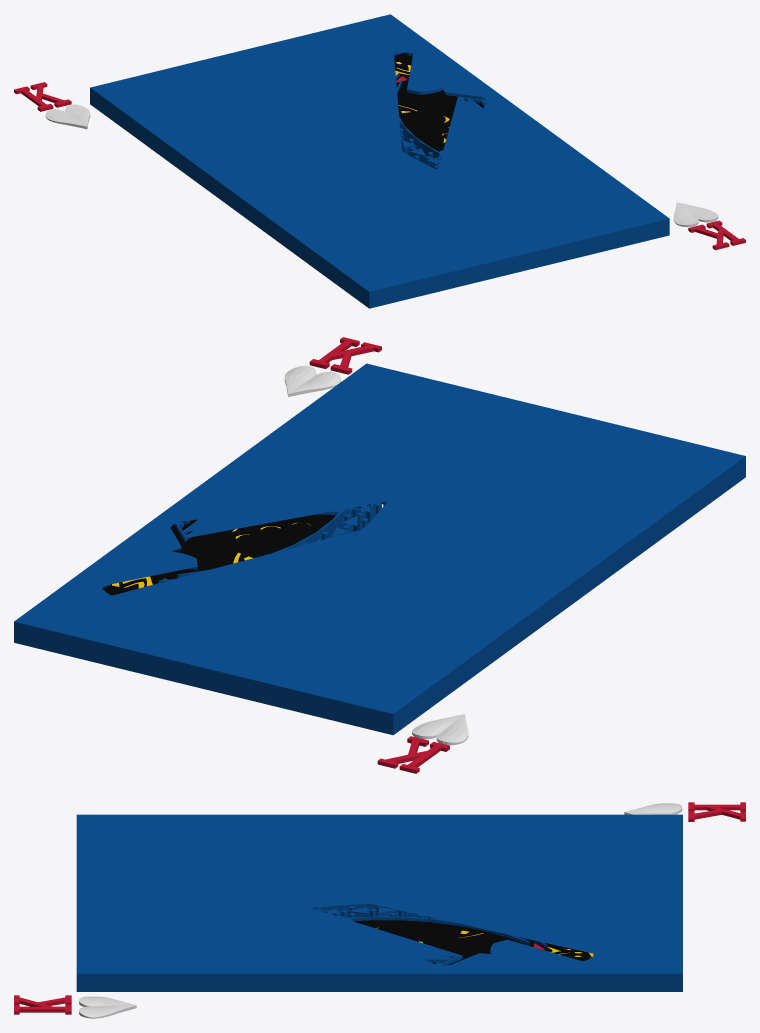
File: King.fbx
3 renders of one model, top to bottom at view 1: azimuth 30°, elevation 25°; view 2: azimuth 150°, elevation 25°; view 3: azimuth 270°, elevation 25°, orthographic. The views are drawn at different scales.
Visible parts, largest first — view 1: path3874-3-1-4, path3870-4-7-1, Cube.002, Cube.003, path39-51-8-0-0.001, path39-51-8-0-0; view 2: path3874-3-1-4, path3870-4-7-1, Cube.002, Cube.003, path39-51-8-0-0.001, path39-51-8-0-0; view 3: path3874-3-1-4, path3870-4-7-1, Cube.002, path39-51-8-0-0, path39-51-8-0-0.001, Cube.003.
Boxes of the visible parts, x1=… form: path3874-3-1-4: x1=90, y1=14, x2=669, y2=308; path3870-4-7-1: x1=394, y1=53, x2=484, y2=151; Cube.002: x1=673, y1=202, x2=718, y2=227; Cube.003: x1=45, y1=104, x2=90, y2=128; path39-51-8-0-0.001: x1=688, y1=220, x2=745, y2=250; path39-51-8-0-0: x1=14, y1=82, x2=71, y2=111; path3874-3-1-4: x1=14, y1=363, x2=745, y2=735; path3870-4-7-1: x1=103, y1=514, x2=335, y2=595; Cube.002: x1=284, y1=365, x2=340, y2=396; Cube.003: x1=412, y1=714, x2=468, y2=745; path39-51-8-0-0.001: x1=309, y1=337, x2=381, y2=374; path39-51-8-0-0: x1=377, y1=736, x2=449, y2=773; path3874-3-1-4: x1=76, y1=814, x2=682, y2=991; path3870-4-7-1: x1=353, y1=920, x2=594, y2=964; Cube.002: x1=79, y1=996, x2=136, y2=1018; path39-51-8-0-0: x1=688, y1=802, x2=745, y2=821; path39-51-8-0-0.001: x1=14, y1=995, x2=71, y2=1014; Cube.003: x1=624, y1=803, x2=682, y2=814.
Size of the model in its own units: 71.1 by 2.95 by 103.
